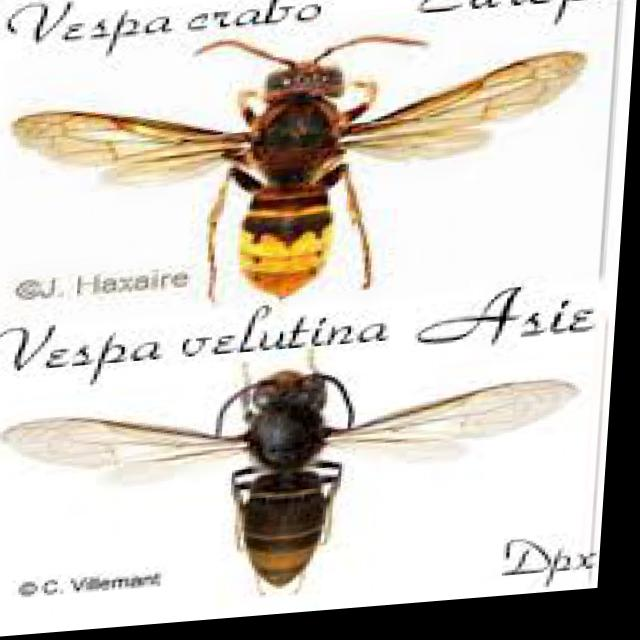Vespa Velutina: (0, 339, 604, 636)
